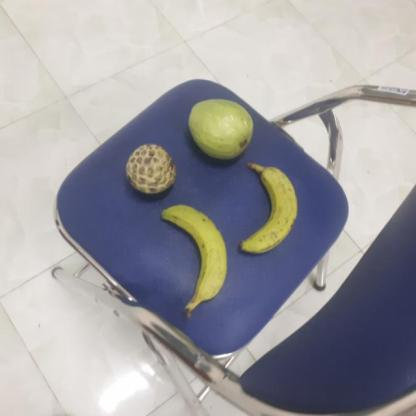annona: (124, 142, 176, 196)
banana: (159, 206, 228, 298), (234, 162, 298, 252)
guava: (185, 100, 254, 162)
